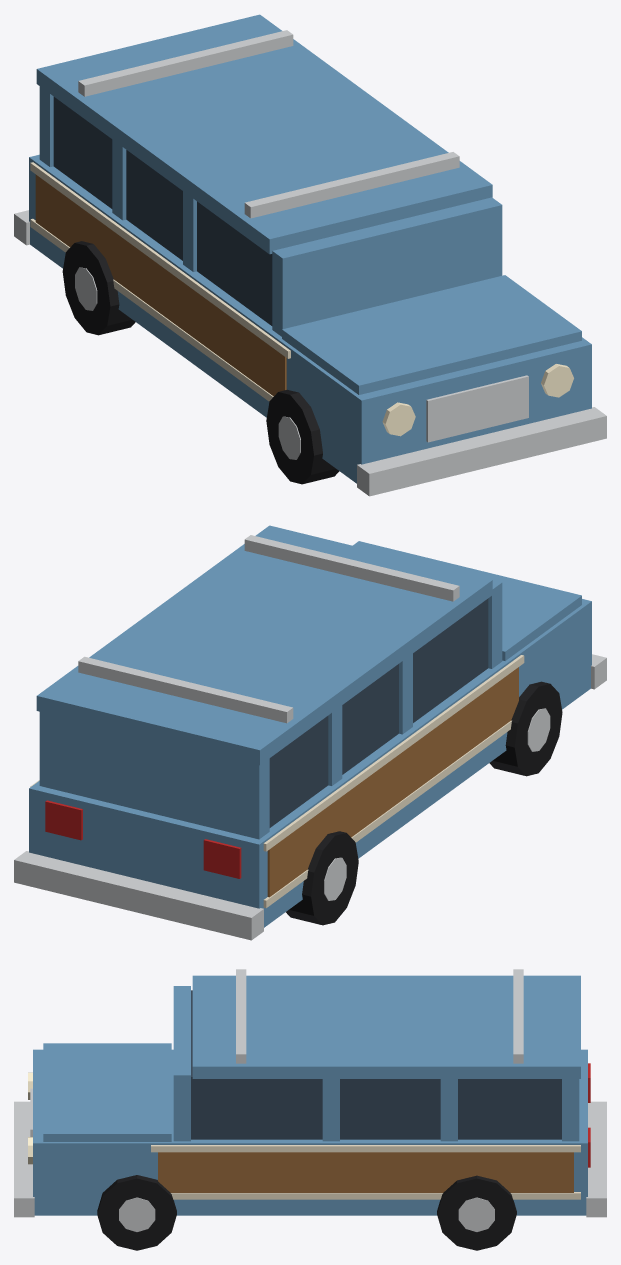
The model's file is parked-car.glb.
3 renders of one model, top to bottom at view 1: azimuth 30°, elevation 25°; view 2: azimuth 150°, elevation 25°; view 3: azimuth 270°, elevation 25°, orthographic. The views are drawn at different scales.
Visible parts, largest first — view 1: ParkedCar_Body, ParkedCar_Chrome, ParkedCar_Glass, ParkedCar_Wood, ParkedCar_Tyre, ParkedCar_Trim, ParkedCar_Lamp; view 2: ParkedCar_Body, ParkedCar_Chrome, ParkedCar_Glass, ParkedCar_Wood, ParkedCar_Tyre, ParkedCar_Trim, ParkedCar_Tail; view 3: ParkedCar_Body, ParkedCar_Glass, ParkedCar_Wood, ParkedCar_Chrome, ParkedCar_Tyre, ParkedCar_Trim.
Part boxes in pixels (x1,y1,x2,y2): ParkedCar_Body: [29, 14, 591, 483]; ParkedCar_Chrome: [14, 30, 606, 496]; ParkedCar_Glass: [53, 97, 272, 325]; ParkedCar_Wood: [35, 174, 286, 396]; ParkedCar_Tyre: [62, 241, 339, 484]; ParkedCar_Trim: [30, 162, 290, 401]; ParkedCar_Lamp: [382, 364, 573, 436]; ParkedCar_Body: [29, 525, 591, 927]; ParkedCar_Chrome: [14, 535, 606, 940]; ParkedCar_Glass: [269, 598, 488, 827]; ParkedCar_Wood: [267, 667, 518, 897]; ParkedCar_Tyre: [286, 681, 562, 925]; ParkedCar_Trim: [30, 655, 524, 908]; ParkedCar_Tail: [45, 800, 241, 878]; ParkedCar_Body: [33, 975, 587, 1215]; ParkedCar_Glass: [191, 990, 561, 1139]; ParkedCar_Wood: [158, 1152, 573, 1192]; ParkedCar_Chrome: [14, 969, 606, 1231]; ParkedCar_Tyre: [97, 1175, 516, 1250]; ParkedCar_Trim: [151, 1145, 580, 1199].
Bounding box in the file's own units: 6.94 × 6 × 17.1.
